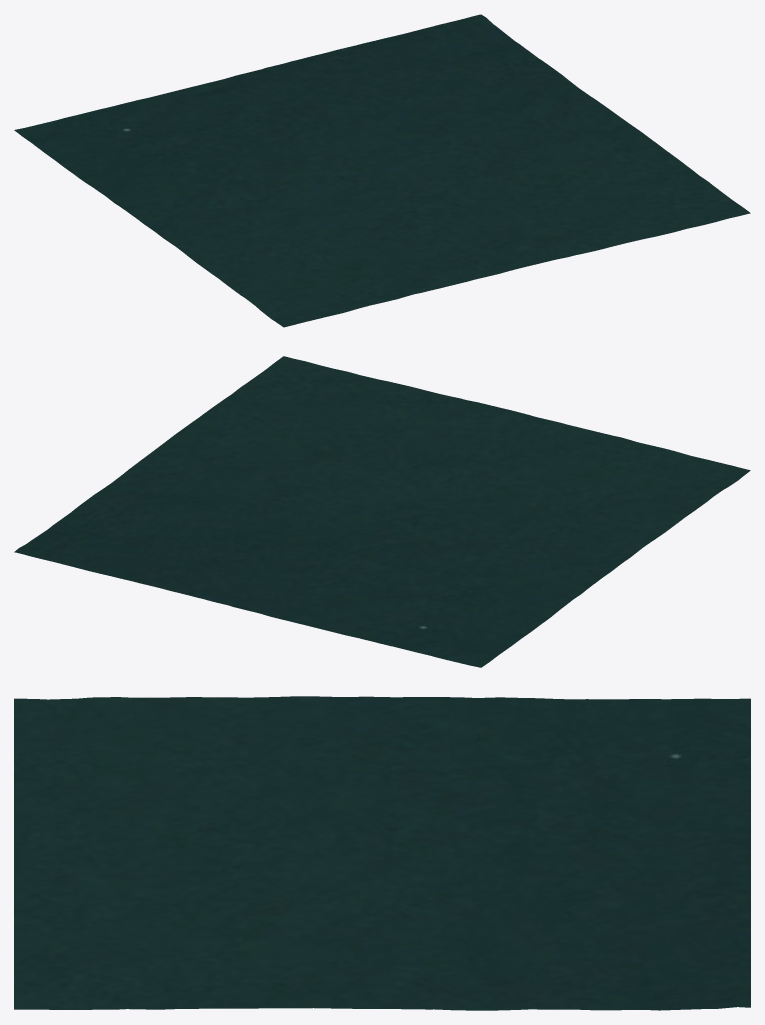
3 views of the same model, one above another, from view 1: azimuth 30°, elevation 25°; view 2: azimuth 150°, elevation 25°; view 3: azimuth 270°, elevation 25° (orthographic). The views are drawn at different scales.
Bounding box in the file's own units: 104 × 0.7662 × 104.
3 materials, 3 textured.
